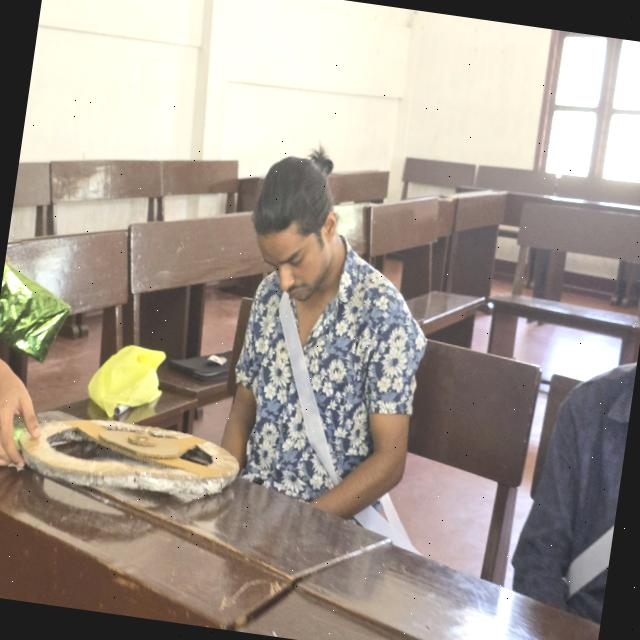seatbelt: (248, 272, 386, 512)
